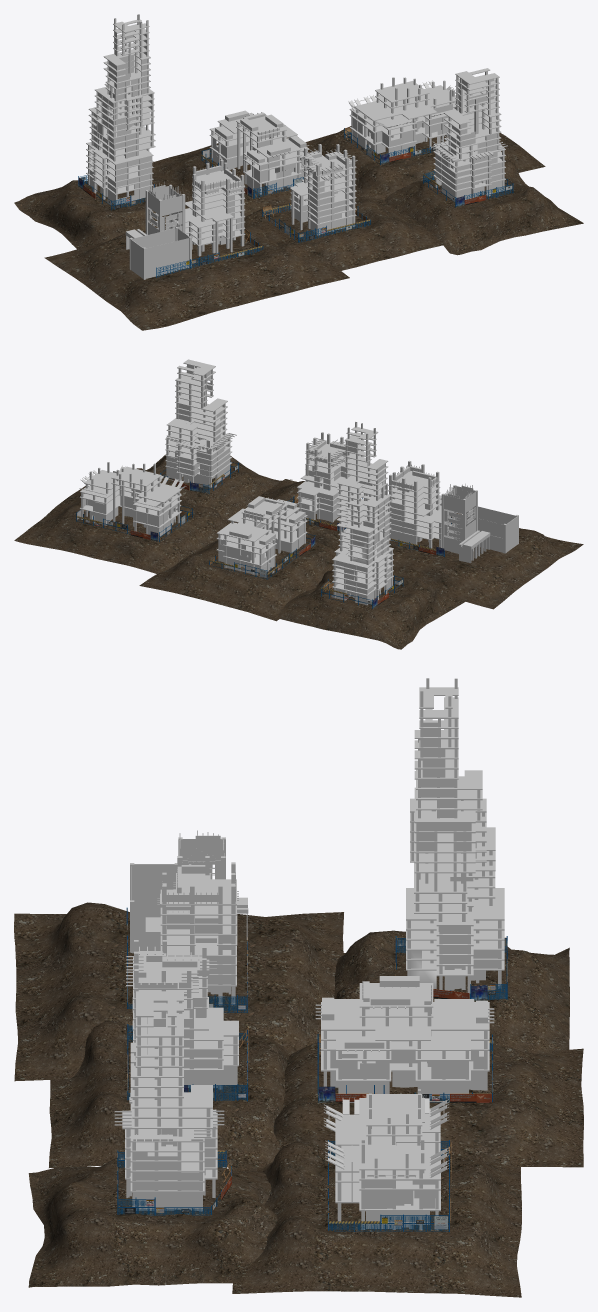
File: all.FBX
3 views of the same model, one above another, from view 1: azimuth 30°, elevation 25°; view 2: azimuth 150°, elevation 25°; view 3: azimuth 270°, elevation 25° (orthographic). The views are drawn at different scales.
Visible parts, largest first — view 1: Object359, Plane001, Box168, Object335, Object308, Plane002, Object307, Object185, Object370, Object325, Box169, Object264 (+8 smaller); view 2: Object325, Object351, Object359, Plane002, Box168, Object308, Object307, Object370, Object185, Object264, Box169, Plane001 (+6 smaller); view 3: Object359, Object325, Plane001, Object351, Object307, Object335, Box168, Object308, Plane002, Object370, Object185, Box169 (+8 smaller).
Part boxes in pixels (x1,y1,x2,y2): Object359: [44, 224, 349, 330]; Plane001: [384, 159, 583, 255]; Box168: [430, 68, 507, 199]; Object335: [244, 197, 445, 270]; Object308: [348, 77, 456, 157]; Plane002: [14, 171, 192, 249]; Object307: [209, 110, 309, 194]; Object185: [86, 86, 155, 204]; Object370: [94, 14, 154, 143]; Object325: [305, 126, 545, 200]; Box169: [290, 144, 357, 235]; Object264: [173, 159, 245, 256]; Object325: [14, 486, 228, 573]; Object351: [139, 522, 335, 621]; Object359: [389, 513, 583, 609]; Plane002: [278, 570, 465, 649]; Box168: [165, 359, 236, 487]; Object308: [79, 462, 186, 536]; Object307: [216, 496, 307, 575]; Object370: [336, 422, 391, 544]; Object185: [332, 484, 393, 605]; Object264: [388, 460, 451, 548]; Box169: [297, 432, 348, 522]; Plane001: [136, 451, 291, 522]; Object359: [14, 902, 343, 1081]; Object325: [232, 1141, 521, 1297]; Plane001: [28, 1158, 277, 1287]; Object351: [249, 1042, 583, 1171]; Object307: [315, 976, 494, 1098]; Object335: [49, 1020, 290, 1168]; Box168: [114, 991, 224, 1211]; Object308: [323, 1079, 449, 1230]; Plane002: [334, 930, 569, 1053]; Object370: [410, 678, 486, 891]; Object185: [406, 810, 504, 993]; Box169: [126, 940, 238, 1089].
Size of the model in its own units: 28070 by 17597 by 11347.
